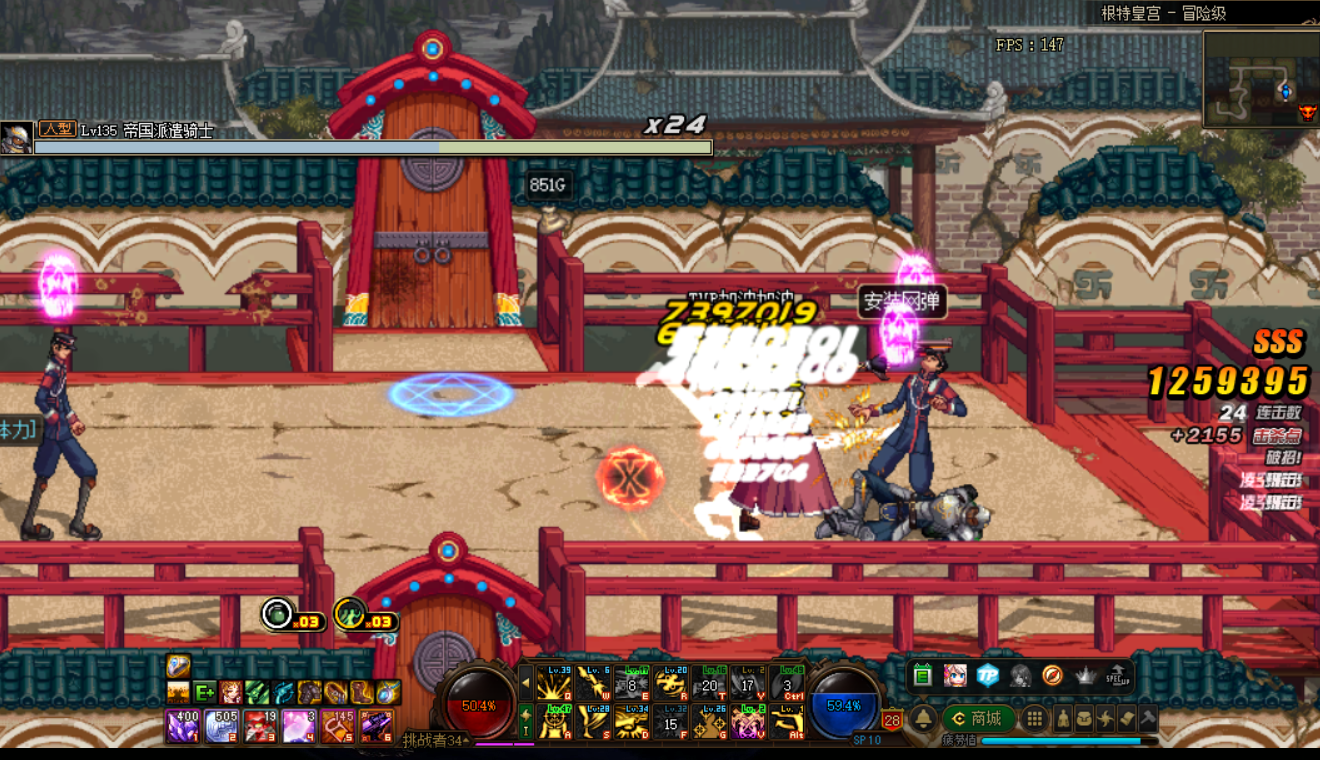monster: (21, 327, 106, 546), (790, 470, 1013, 550), (856, 345, 957, 508)
warrior: (699, 307, 861, 537)
